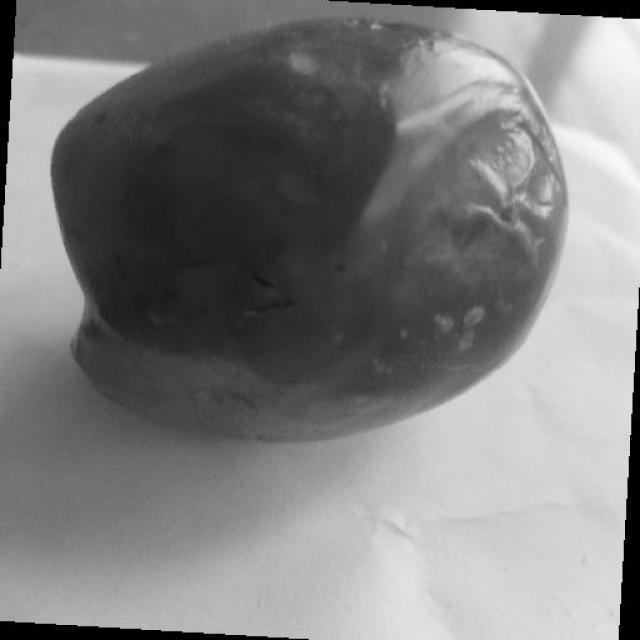Stale_tomato: (50, 25, 559, 418)
